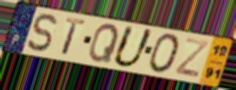O: (148, 32, 182, 75)
Q: (87, 23, 121, 64)
S: (26, 12, 59, 54)
T: (60, 16, 87, 58)
U: (110, 24, 156, 69)
Z: (173, 37, 211, 80)
